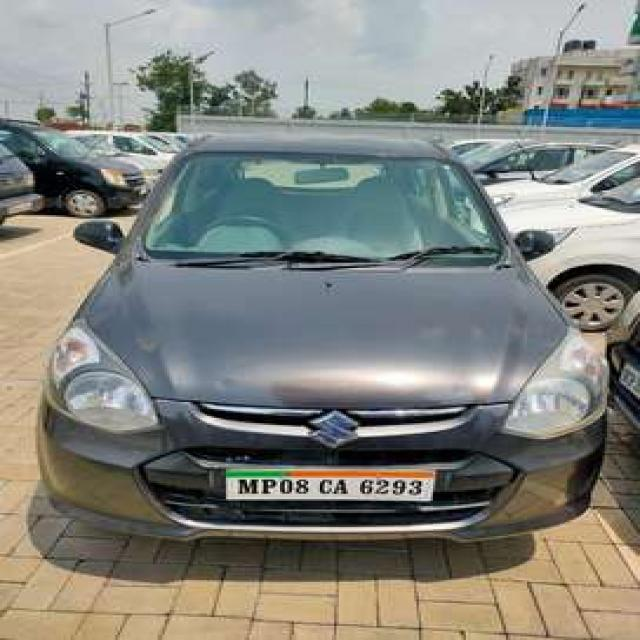Plate: (222, 466, 432, 500)
